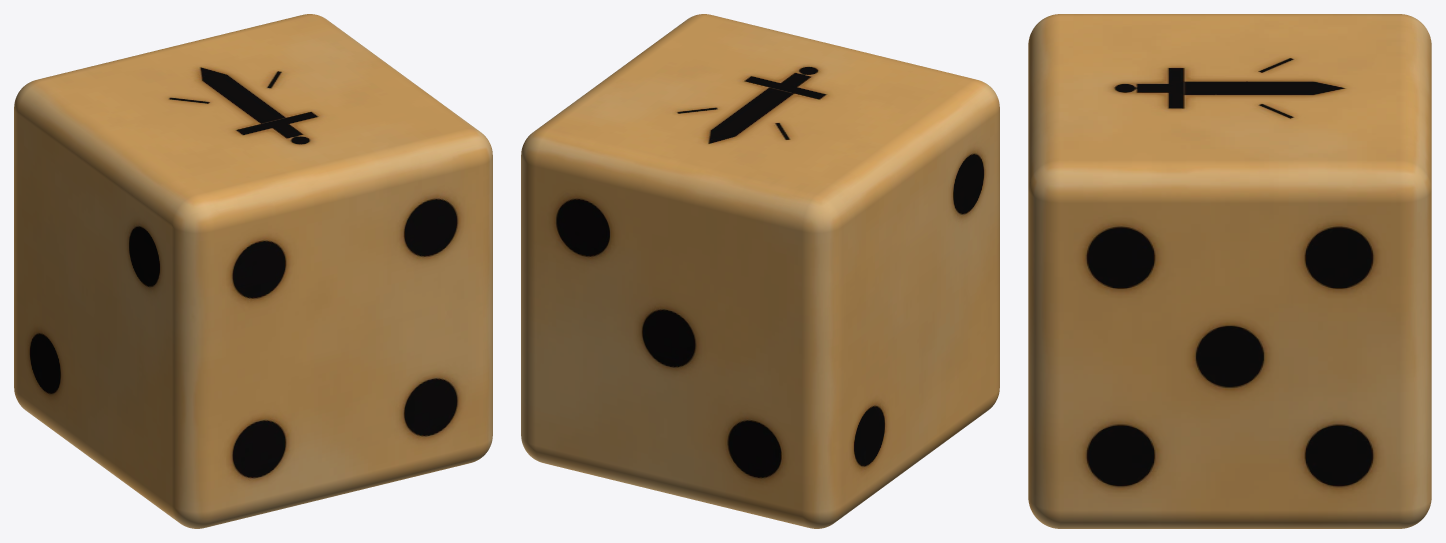
The model's file is dice_6.gltf.
3 views of the same model, side by side, from view 1: azimuth 30°, elevation 25°; view 2: azimuth 150°, elevation 25°; view 3: azimuth 270°, elevation 25° (orthographic). The views are drawn at different scales.
Visible parts, largest first — view 1: dice_6; view 2: dice_6; view 3: dice_6.
Boxes of the visible parts, box(x1,y1,x2,y2) form: dice_6: box(14, 14, 492, 528); dice_6: box(521, 14, 999, 528); dice_6: box(1028, 14, 1431, 528).
Bounding box in the file's own units: 104 × 104 × 104.
Materials: 1 (1 with a texture image).
